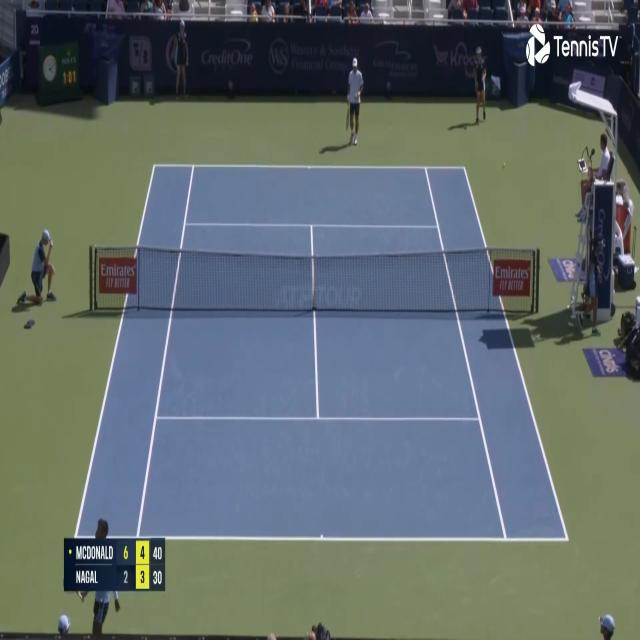tennis-player: (81, 517, 123, 636), (344, 55, 364, 148)
